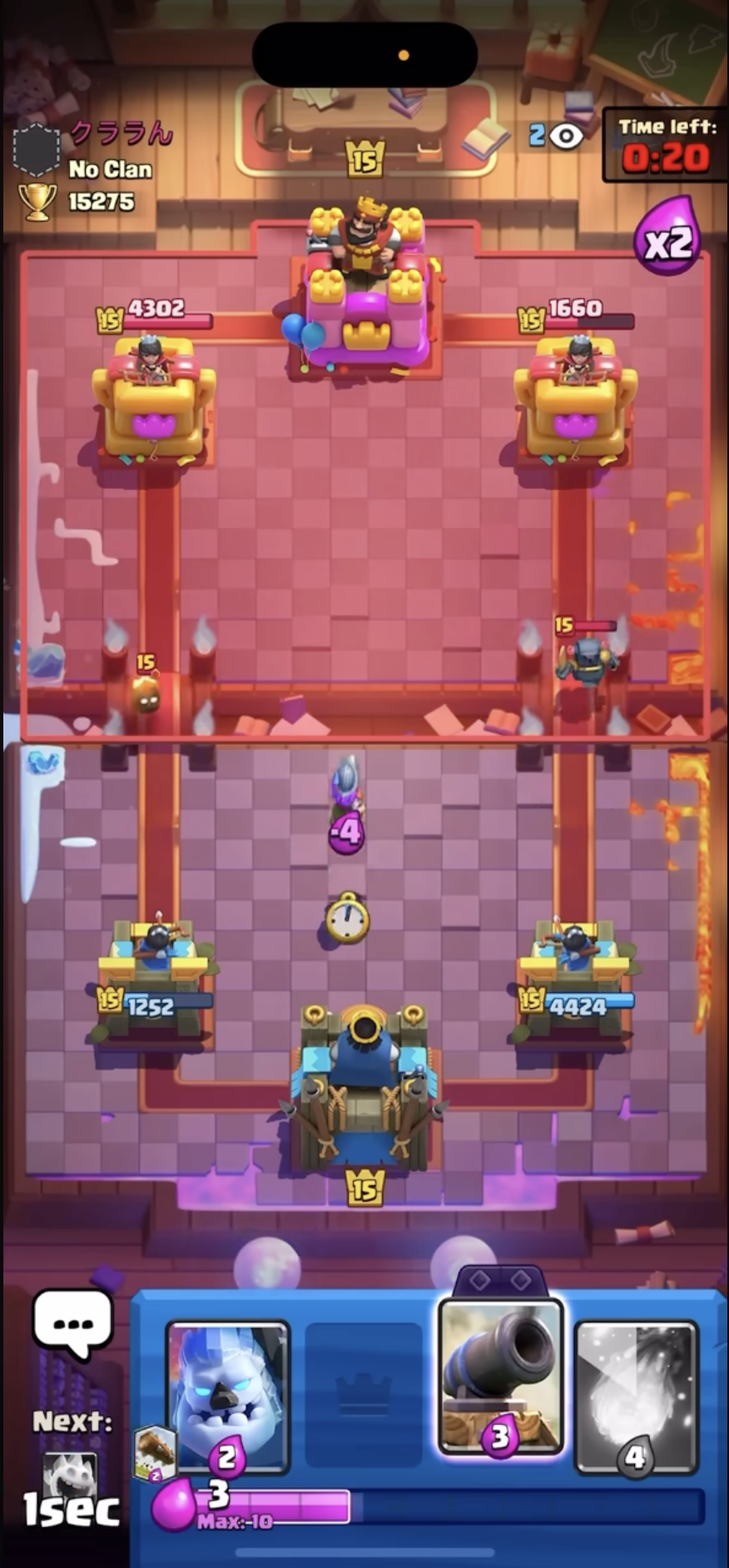fire-spirit: (124, 645, 167, 716)
mini-pekka: (542, 606, 626, 694)
